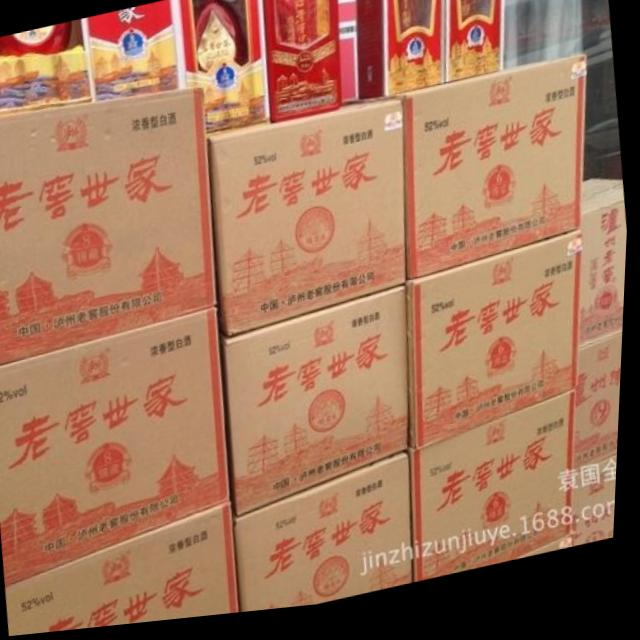box: (0, 310, 235, 587), (0, 90, 219, 365), (208, 108, 409, 341), (387, 67, 587, 288), (222, 292, 412, 523), (410, 242, 582, 458), (413, 403, 580, 592), (10, 505, 245, 637), (240, 458, 418, 618), (176, 0, 271, 142), (81, 1, 186, 104), (262, 0, 344, 129), (356, 0, 447, 108), (0, 20, 93, 114), (582, 190, 630, 361), (577, 344, 626, 487), (446, 0, 505, 92), (576, 468, 622, 559), (338, 0, 359, 111), (522, 549, 578, 571)
